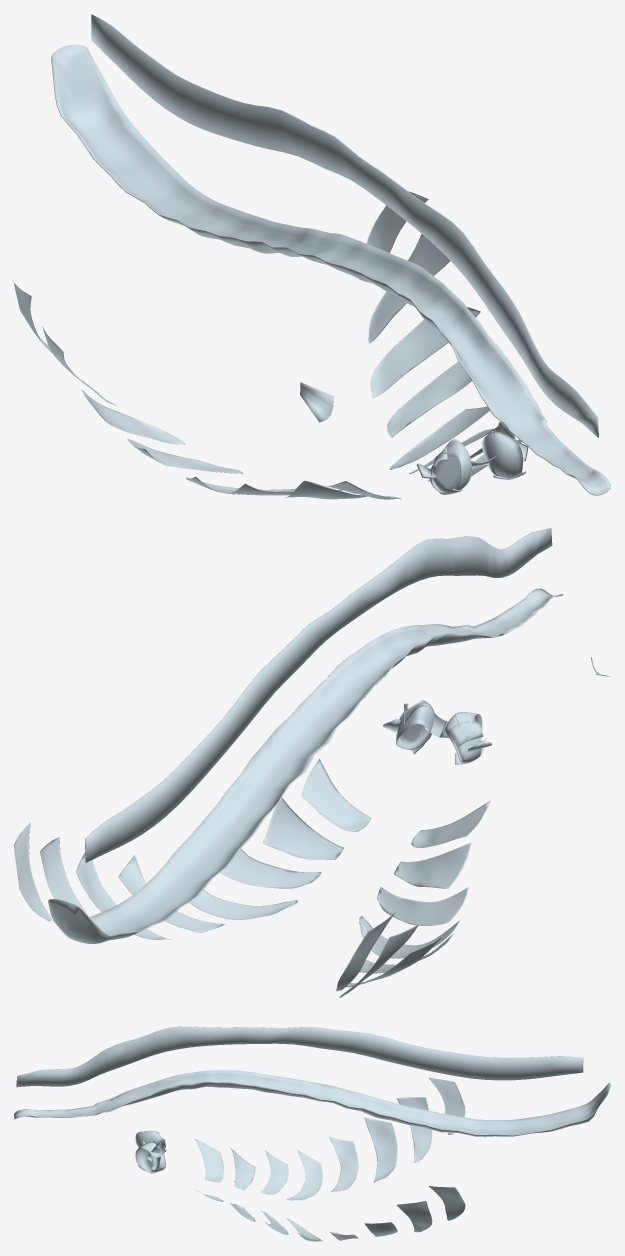
File: thorax__joints.47403b7b38.glb
The picture shows the model from 3 angles, top to bottom: view 1: azimuth 30°, elevation 25°; view 2: azimuth 150°, elevation 25°; view 3: azimuth 270°, elevation 25°; orthographic projection. The views are drawn at different scales.
Parts seen in each view (by area): view 1: Anterior longitudinal ligament, Interspinous ligaments, External intercostal membrane.l, External intercostal membrane.r, Articular capsule of sternoclavicular joint.l, Articular disc of sternoclavicular joint.r, Conoid ligament.r, Articular capsule of sternoclavicular joint.r; view 2: Anterior longitudinal ligament, Interspinous ligaments, External intercostal membrane.l, External intercostal membrane.r, Articular capsule of sternoclavicular joint.l, Articular capsule of sternoclavicular joint.r; view 3: Interspinous ligaments, Anterior longitudinal ligament, External intercostal membrane.r, External intercostal membrane.l, Articular capsule of sternoclavicular joint.l, Articular capsule of sternoclavicular joint.r.
Part boxes in pixels (x1=…): Anterior longitudinal ligament: x1=51, y1=44, x2=610, y2=495; Interspinous ligaments: x1=91, y1=14, x2=598, y2=437; External intercostal membrane.l: x1=366, y1=191, x2=521, y2=481; External intercostal membrane.r: x1=14, y1=283, x2=401, y2=499; Articular capsule of sternoclavicular joint.l: x1=481, y1=431, x2=522, y2=479; Articular disc of sternoclavicular joint.r: x1=433, y1=439, x2=471, y2=492; Conoid ligament.r: x1=300, y1=382, x2=333, y2=422; Articular capsule of sternoclavicular joint.r: x1=429, y1=441, x2=471, y2=492; Anterior longitudinal ligament: x1=48, y1=588, x2=563, y2=943; Interspinous ligaments: x1=85, y1=528, x2=552, y2=862; External intercostal membrane.l: x1=14, y1=758, x2=371, y2=939; External intercostal membrane.r: x1=336, y1=800, x2=490, y2=997; Articular capsule of sternoclavicular joint.l: x1=396, y1=700, x2=434, y2=749; Articular capsule of sternoclavicular joint.r: x1=444, y1=712, x2=482, y2=762; Interspinous ligaments: x1=16, y1=1026, x2=583, y2=1087; Anterior longitudinal ligament: x1=14, y1=1070, x2=610, y2=1136; External intercostal membrane.r: x1=195, y1=1077, x2=465, y2=1200; External intercostal membrane.l: x1=196, y1=1186, x2=465, y2=1241; Articular capsule of sternoclavicular joint.l: x1=135, y1=1141, x2=165, y2=1172; Articular capsule of sternoclavicular joint.r: x1=135, y1=1130, x2=165, y2=1148.
Bounding box in the file's own units: 254 × 207 × 592.
